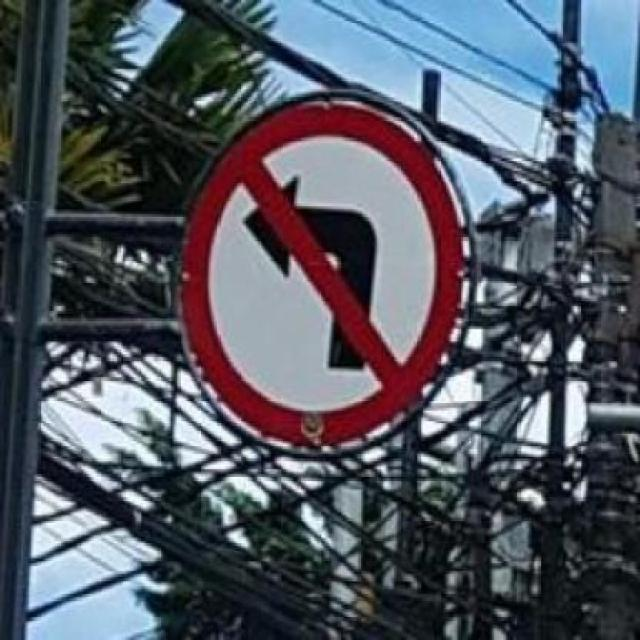left turn prohibited: (174, 92, 466, 454)
